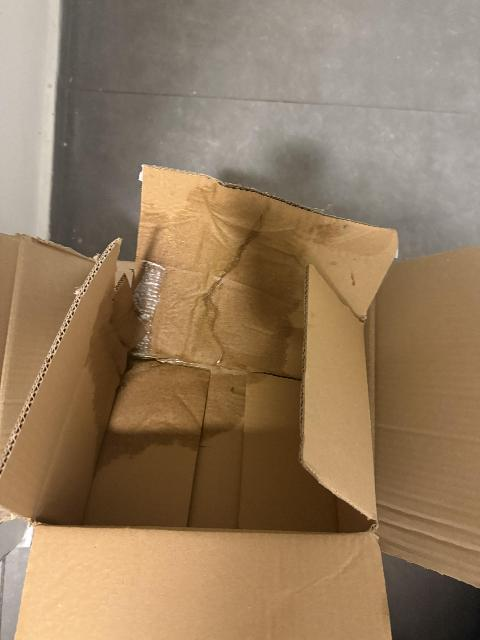Kagit: (0, 205, 478, 640), (121, 159, 331, 208)
